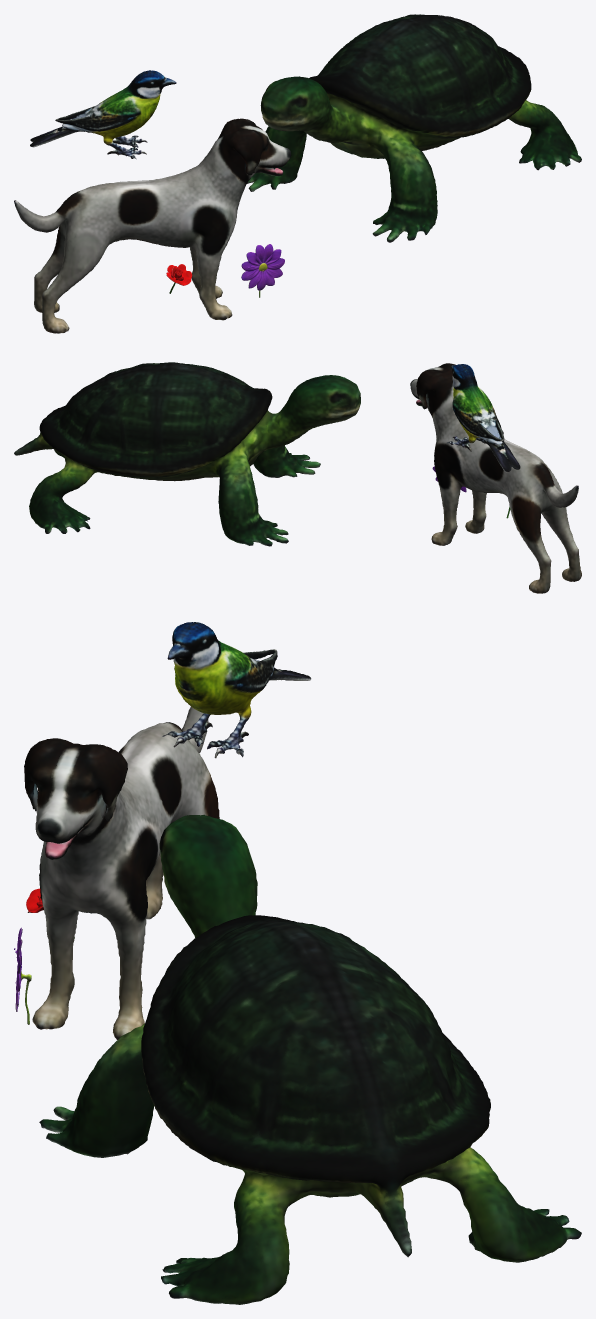
File: turtle2.glb
3 renders of one model, top to bottom at view 1: azimuth 30°, elevation 25°; view 2: azimuth 150°, elevation 25°; view 3: azimuth 270°, elevation 25°, orthographic. The views are drawn at different scales.
Parts seen in each view (by area): view 1: Mesh_0.002, Mesh_0.001, Mesh_0, Mesh_0.004, Mesh_0.003; view 2: Mesh_0.002, Mesh_0.001, Mesh_0; view 3: Mesh_0.002, Mesh_0.001, Mesh_0.
Boxes of the visible parts, left/top/right/bottom form: Mesh_0.002: left=247, top=14, right=581, bottom=242; Mesh_0.001: left=14, top=118, right=291, bottom=333; Mesh_0: left=30, top=70, right=176, bottom=159; Mesh_0.004: left=241, top=244, right=284, bottom=297; Mesh_0.003: left=166, top=264, right=192, bottom=293; Mesh_0.002: left=14, top=362, right=360, bottom=546; Mesh_0.001: left=410, top=363, right=581, bottom=593; Mesh_0: left=447, top=364, right=520, bottom=471; Mesh_0.002: left=39, top=814, right=581, bottom=1304; Mesh_0.001: left=24, top=706, right=219, bottom=1039; Mesh_0: left=162, top=622, right=311, bottom=758.
Size of the model in its own units: 32.13 by 12.03 by 16.33.
5 materials, 5 textured.
